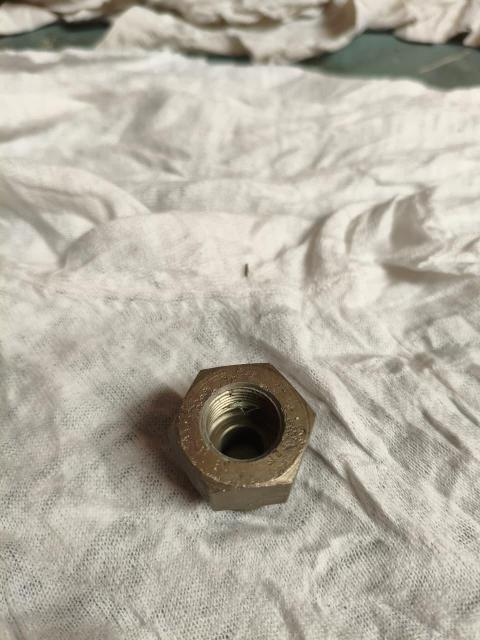Metal: (167, 360, 317, 513)
